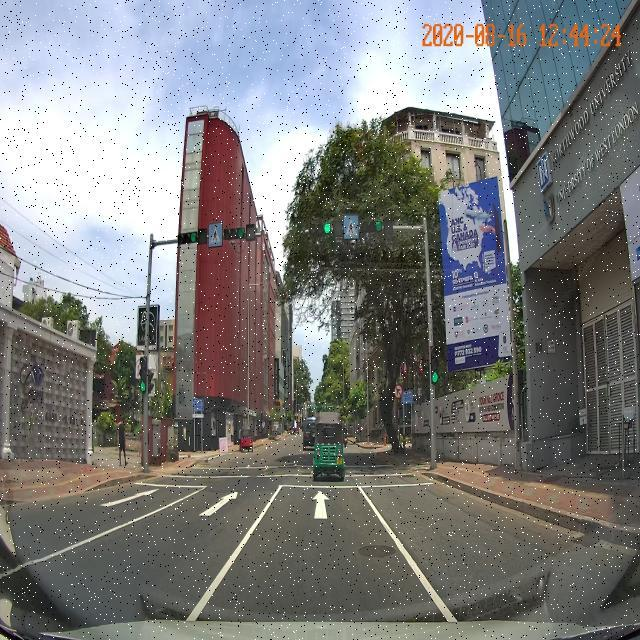forward: (258, 488, 382, 521)
